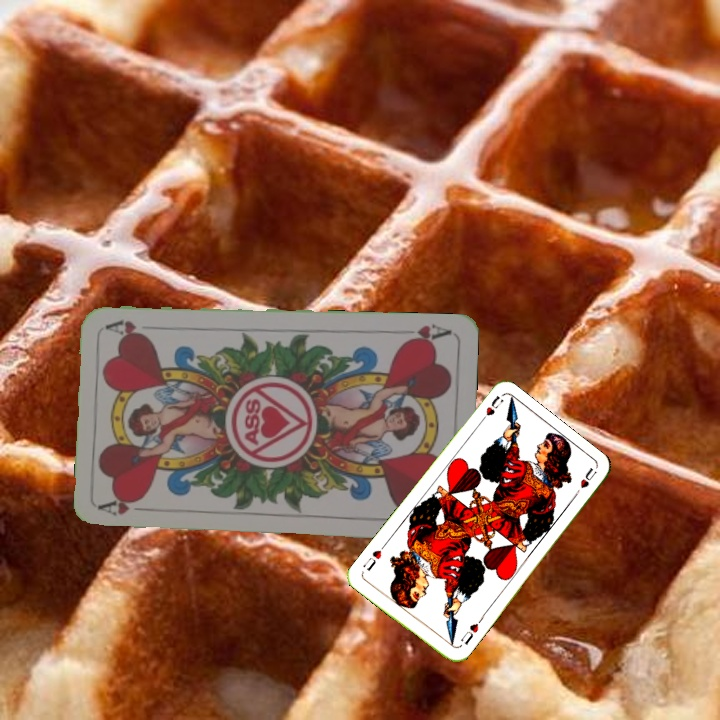HA: (393, 320, 452, 347), (98, 497, 157, 518)
HU: (475, 392, 506, 427), (457, 619, 481, 647)
